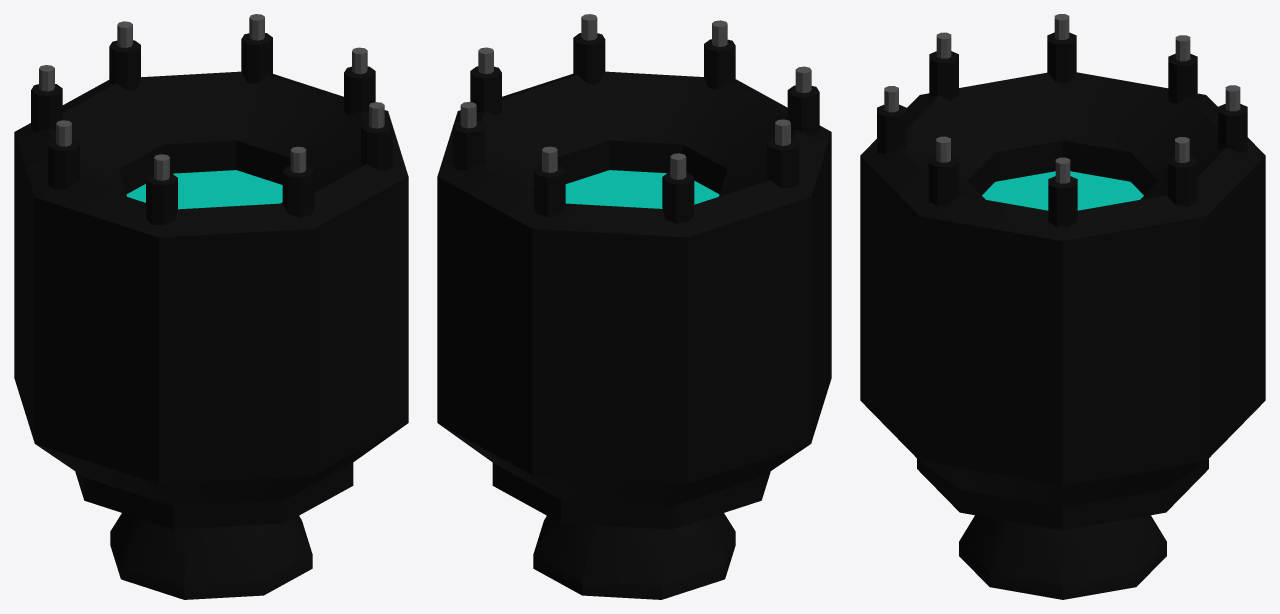
Rendered from ConnectorMagnet.fbx.
The picture shows the model from 3 angles, left to right: view 1: azimuth 30°, elevation 25°; view 2: azimuth 150°, elevation 25°; view 3: azimuth 270°, elevation 25°; orthographic projection.
Parts seen in each view (by area): view 1: Magnet; view 2: Magnet; view 3: Magnet.
Part boxes in pixels (x1,y1,x2,y2): Magnet: (14, 14, 408, 599); Magnet: (437, 14, 831, 599); Magnet: (860, 14, 1265, 599).
Size of the model in its own units: 12.7 by 16.15 by 12.7.
